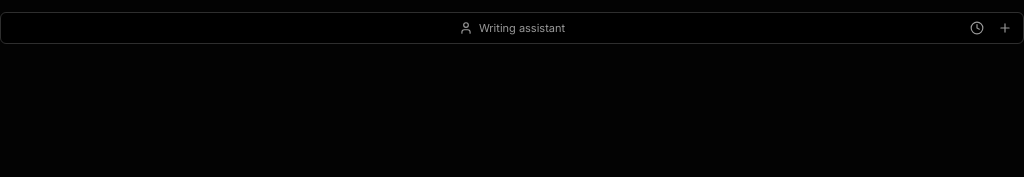
shared agent picker › offers every agent in writer chats
Step 1. Click the button "Writing assistant" → coordinates (512, 28), box [453,20,571,36]
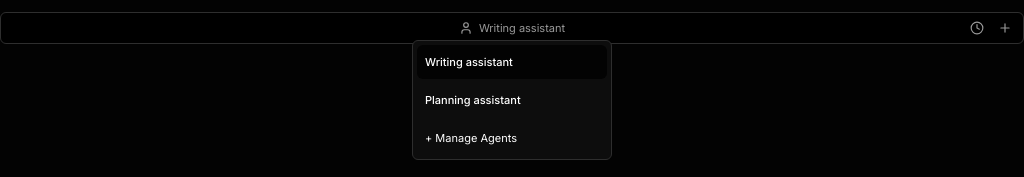
Expected: the menu item "+ Manage Agents" is shown, [417,121,607,155]
Step 2. Click the menu item "Planning assistant" → coordinates (512, 100), box [417,83,607,117]
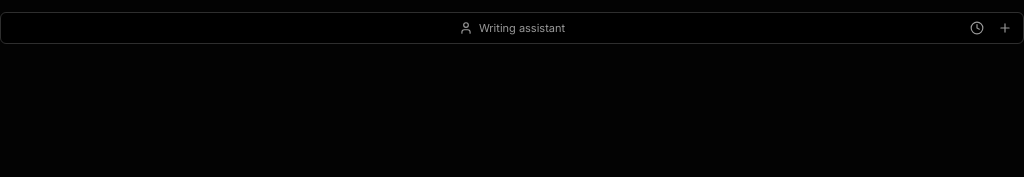
Expected: the menu is gone
